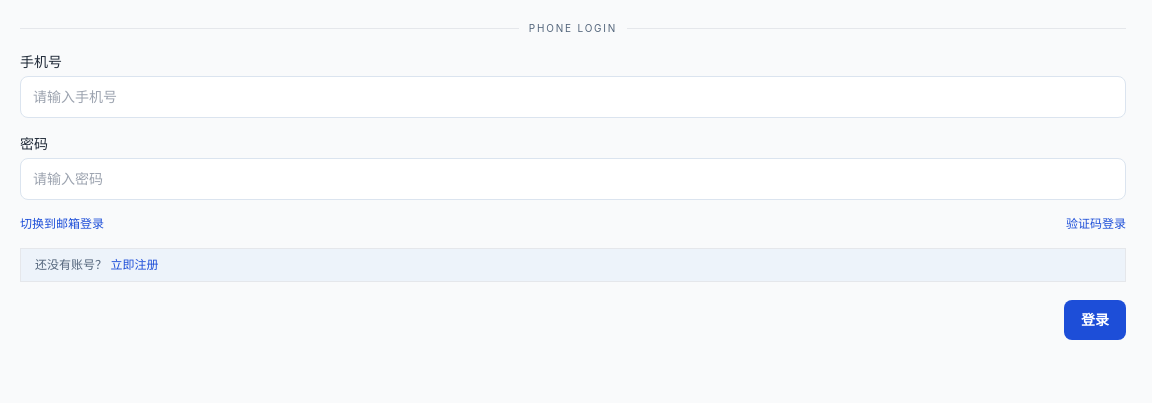
Test: AuthLoginForm async lifecycle › clears a email OTP session when the finish result is unknown (503)
This screenshot has width=1152, height=403.
Click the button "切换到邮箱登录" at (62, 224), box [20, 216, 104, 232]
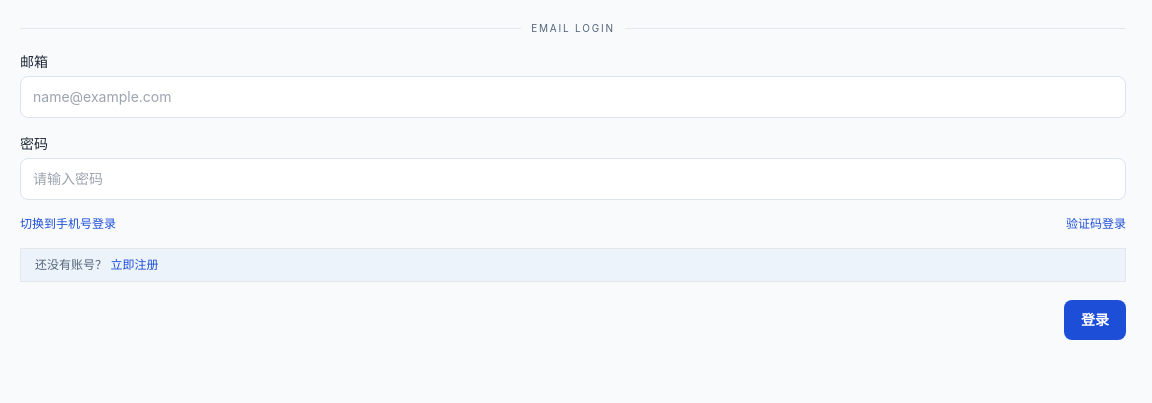
Click the button "验证码登录" at (1096, 224), box [1066, 216, 1126, 232]
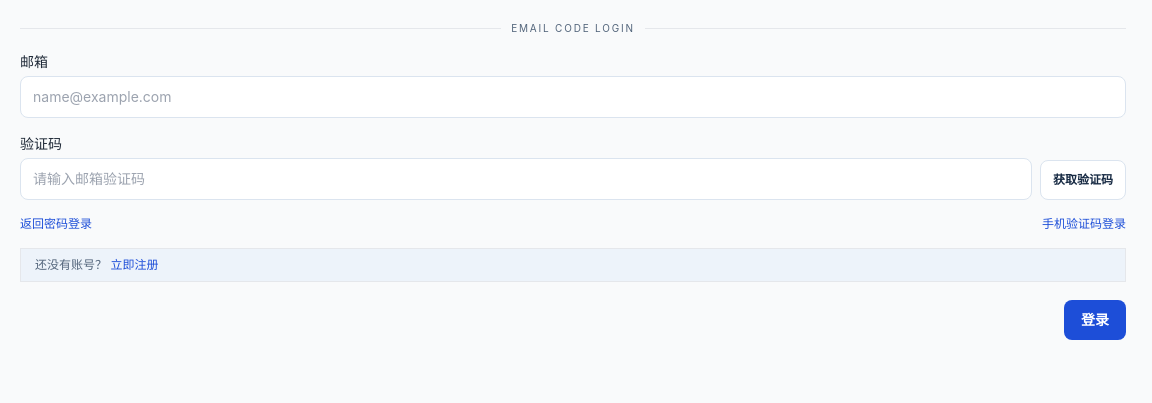
Type "unknown-result@example.com" into the field with id "auth-login-email" at (573, 97), box [20, 76, 1126, 118]
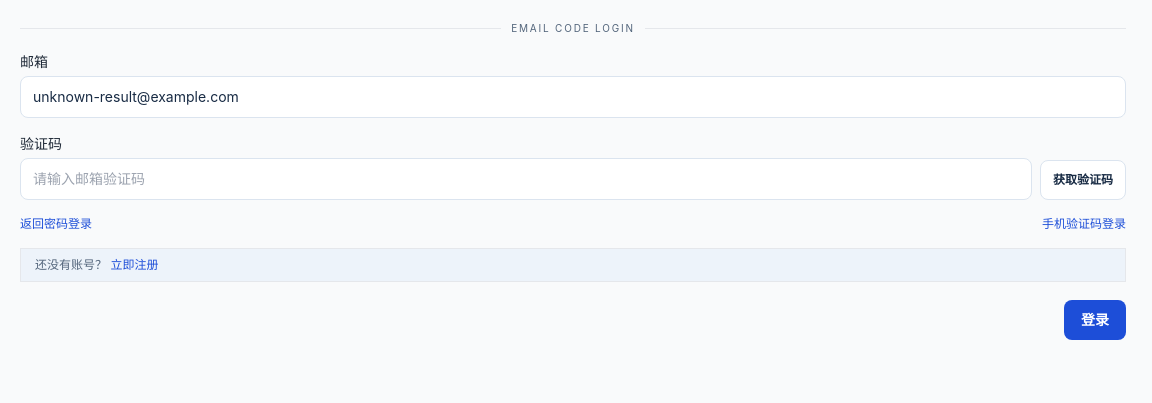
Click the button "获取验证码" at (1083, 180), box [1040, 160, 1126, 200]
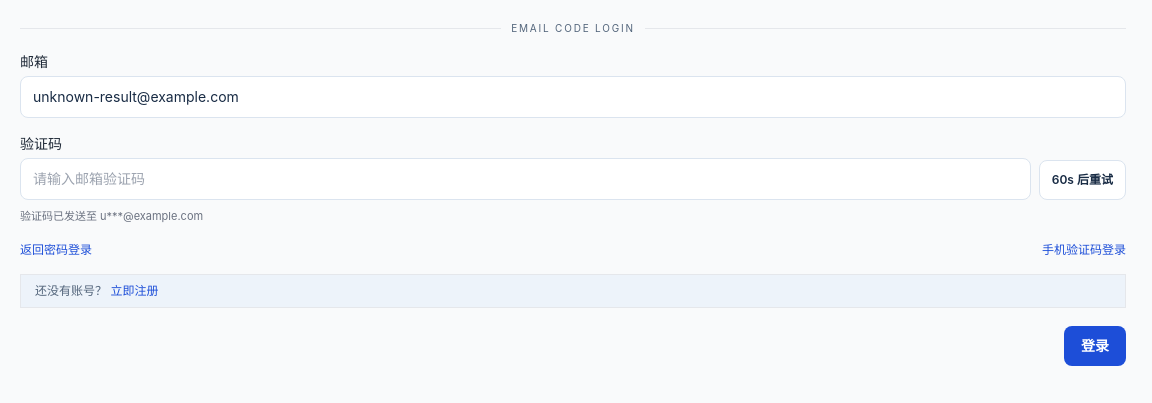
expect the text "u***@example.com" is shown: met, box [20, 209, 203, 223]
Type "123456" into the field with id "auth-login-code" at (525, 179), box [20, 158, 1031, 200]
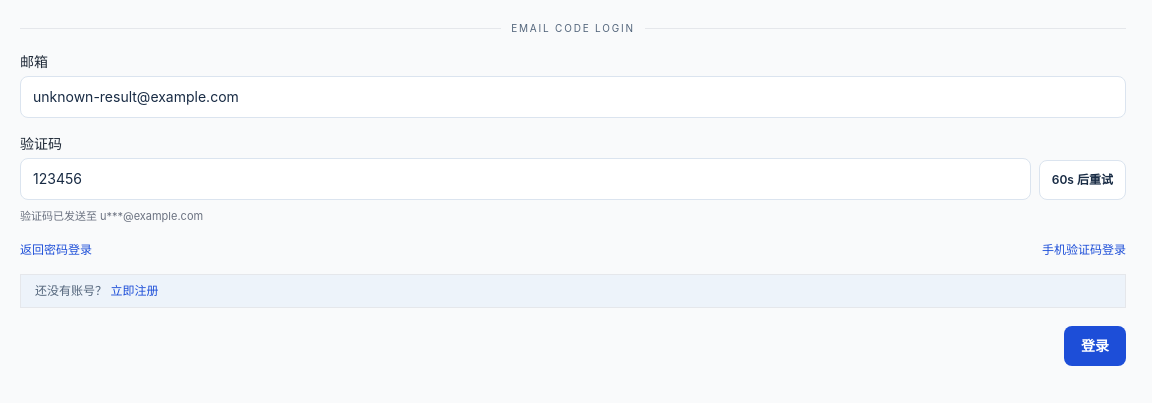
Submit the form
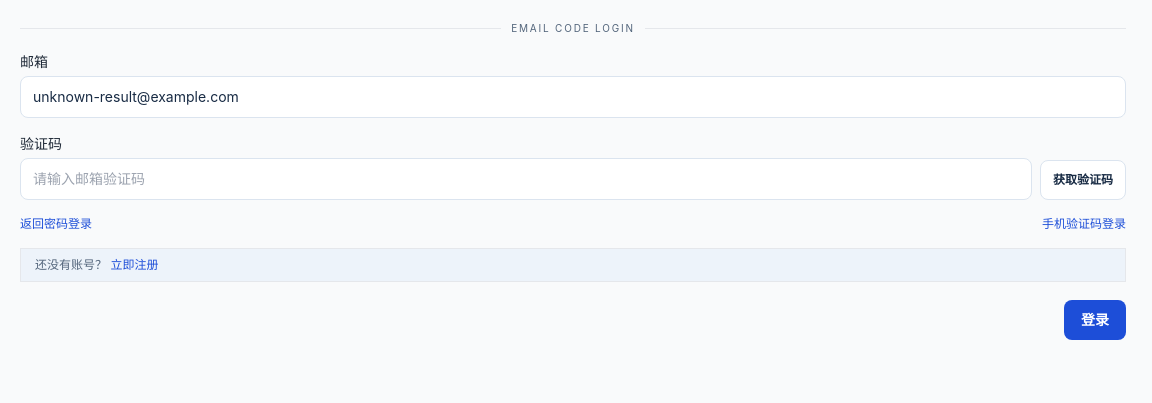
expect the field with id "auth-login-code" is empty: met, box [20, 158, 1032, 200]
expect the text "u***@example.com" is gone: met
